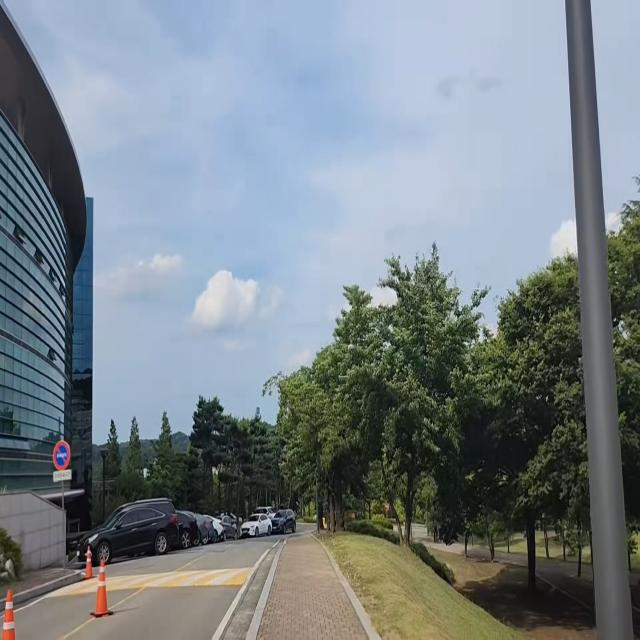obstacle: (72, 489, 183, 568), (89, 553, 122, 621), (0, 586, 19, 640)
sidewalk: (249, 535, 381, 640), (0, 565, 77, 603)
